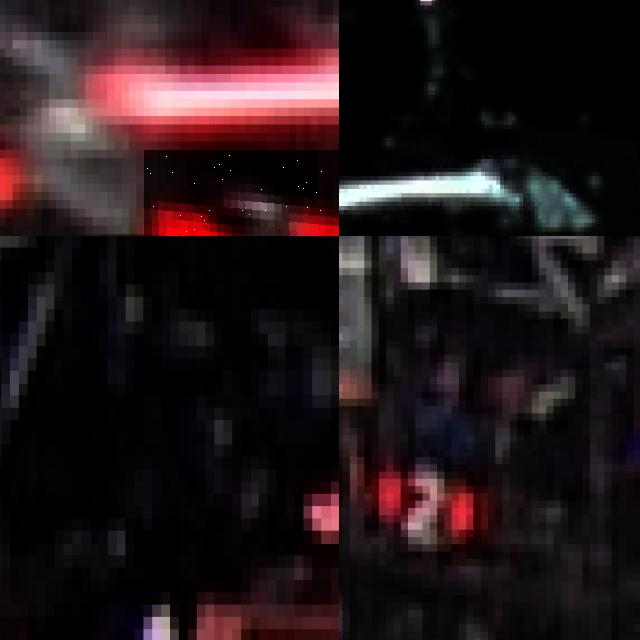R2: (346, 446, 492, 570)
R3: (143, 150, 339, 236)
